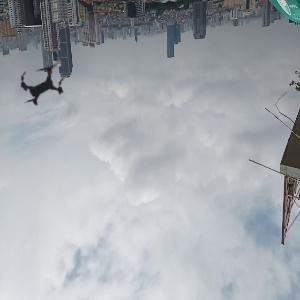drone: (2, 43, 84, 125)
